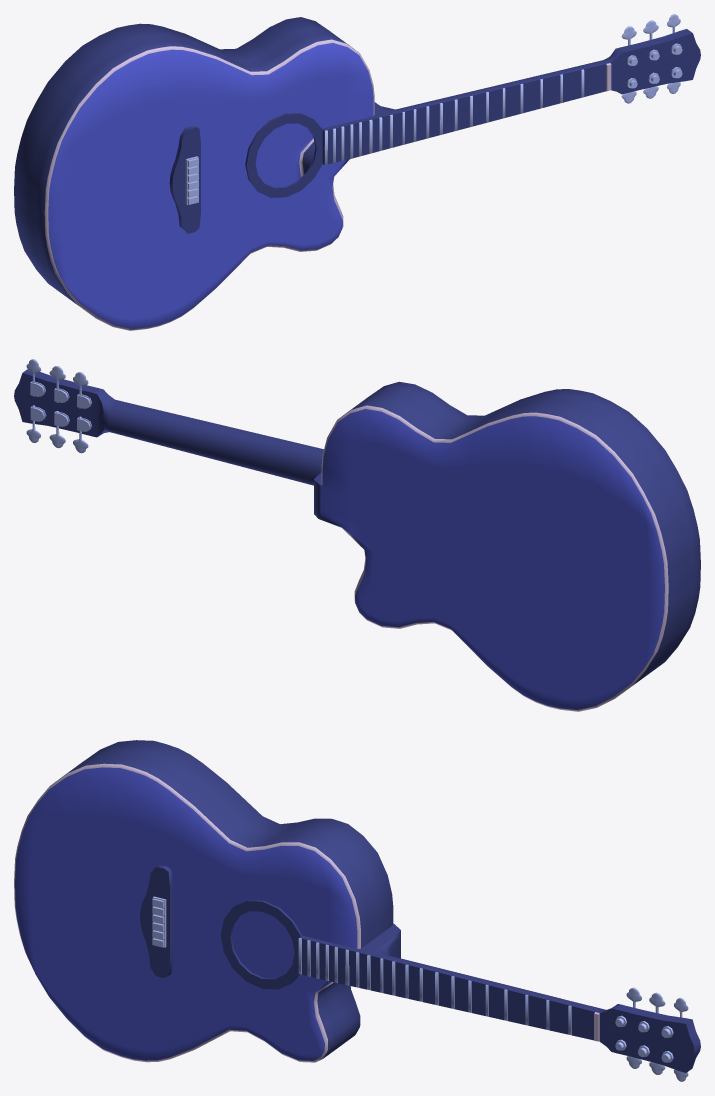
Rendered from Guitare.fbx.
3 views of the same model, one above another, from view 1: azimuth 30°, elevation 25°; view 2: azimuth 150°, elevation 25°; view 3: azimuth 330°, elevation 25° (orthographic). The views are drawn at different scales.
Visible parts, largest first — view 1: Guitare; view 2: Guitare; view 3: Guitare.
Boxes of the visible parts, x1,y1,x2,y2 form: Guitare: (14, 14, 700, 330); Guitare: (14, 359, 700, 711); Guitare: (14, 740, 700, 1081).
Bounding box in the file's own units: 100 × 40.89 × 10.61.
